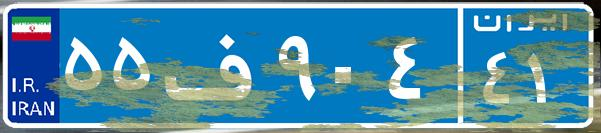0: (330, 28, 385, 110)
1: (525, 38, 570, 115)
4: (385, 28, 445, 110), (475, 38, 525, 113)
5: (57, 26, 110, 107), (110, 28, 158, 105)
9: (273, 28, 330, 110)
ف: (158, 15, 273, 115)
